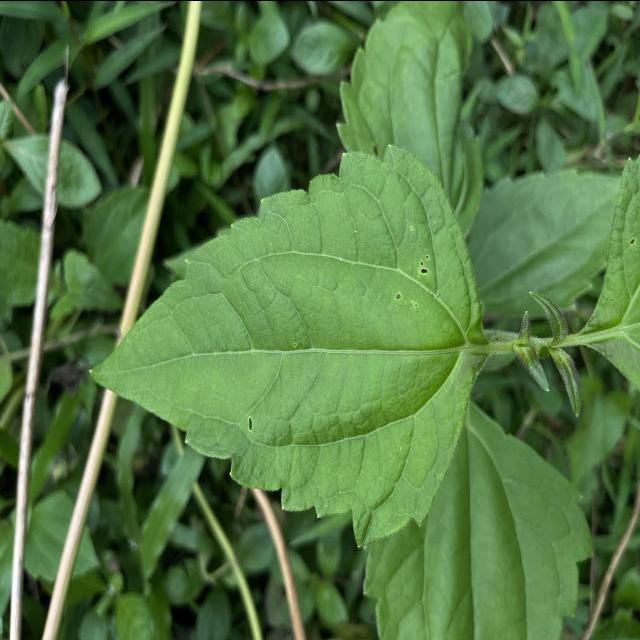Chromolaena odorata: (82, 138, 494, 553)
